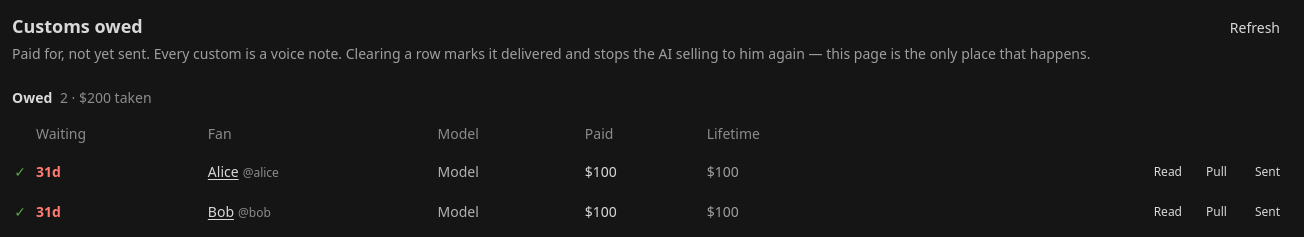
Test case: CustomsTab pane › Sent on A mid-Pull: A's ok rescrape reopens nothing and asks no brief
Click the 1st button titled "Re-fetch this chat from OnlyFans, then re-read it".
click(1216, 172)  # box [1198,160,1235,184]
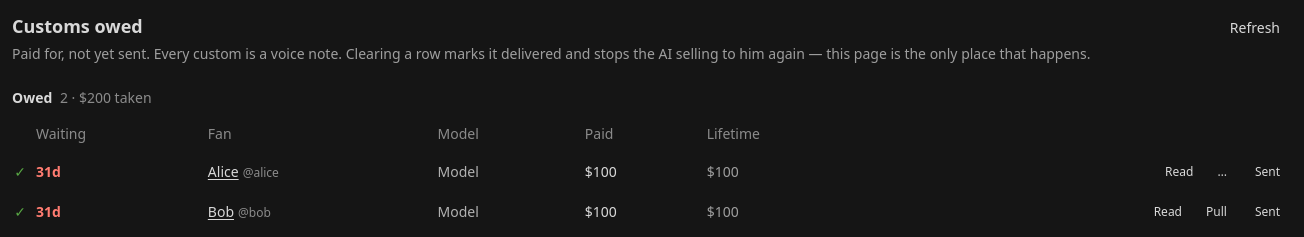
Click the 1st button titled "Mark delivered".
click(1267, 172)  # box [1243,160,1292,184]
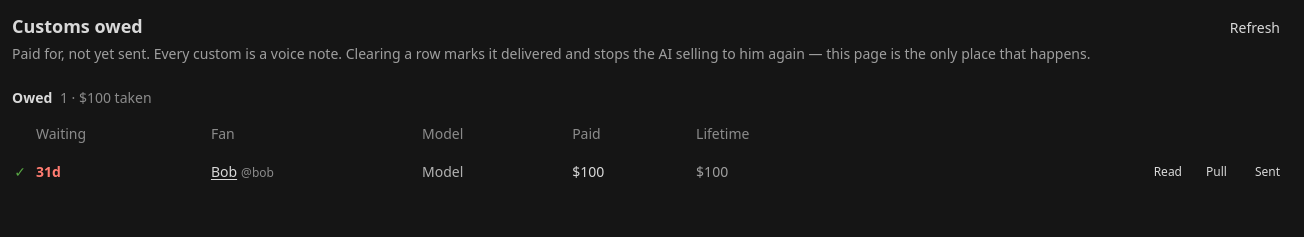
Result: the link "Alice" is gone
